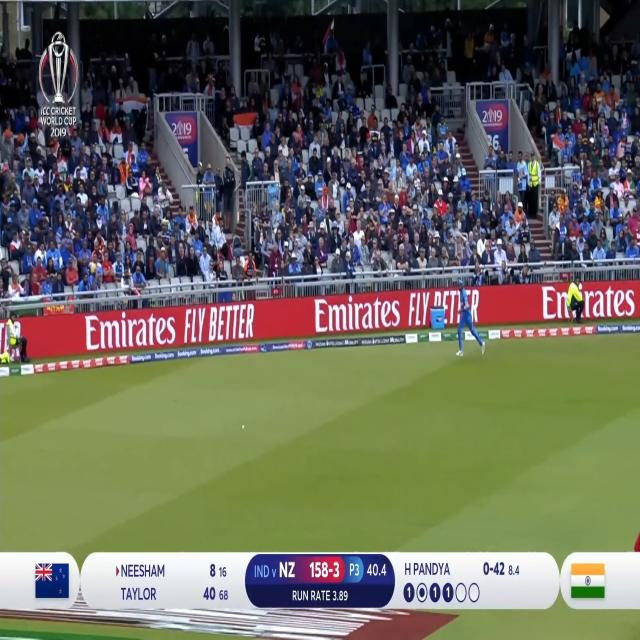ball: (240, 421, 247, 432)
